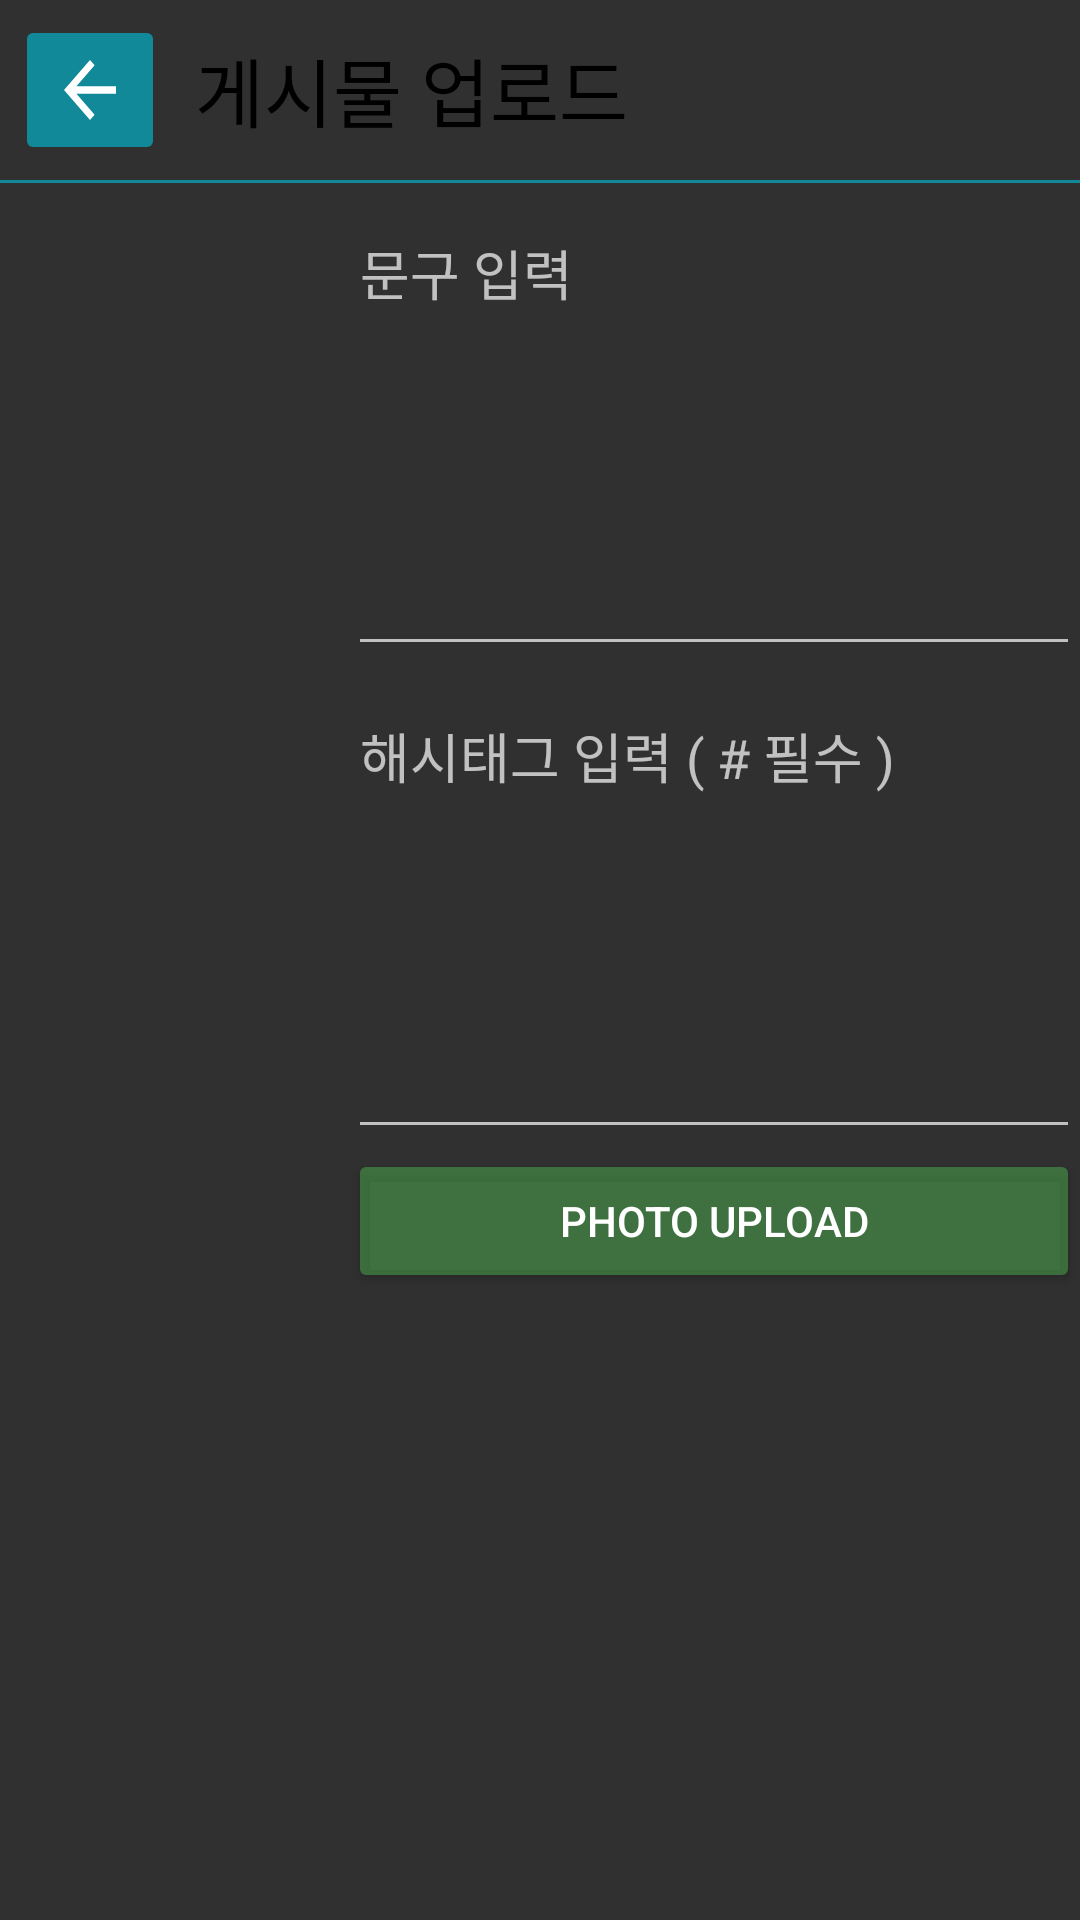

Icons on this 1080x1920 Android screen, each with the point to tap as [x,y]:
arrow back: [90,90]
